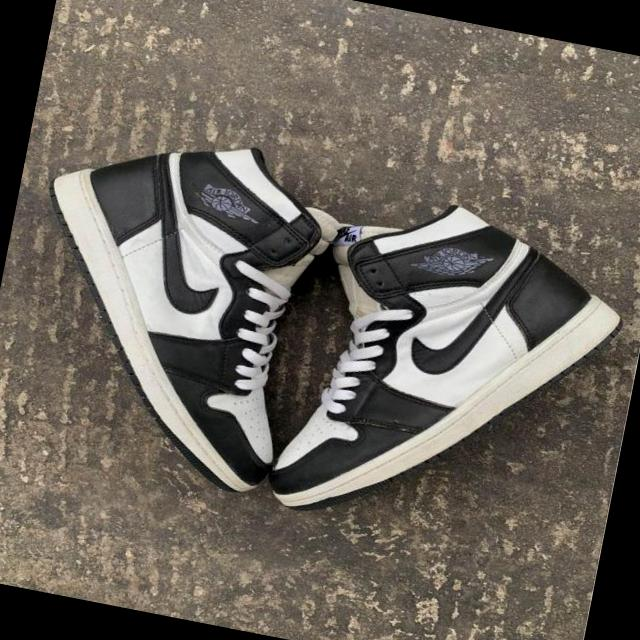nike_fake_jordan: (0, 83, 355, 503), (264, 177, 640, 566)
